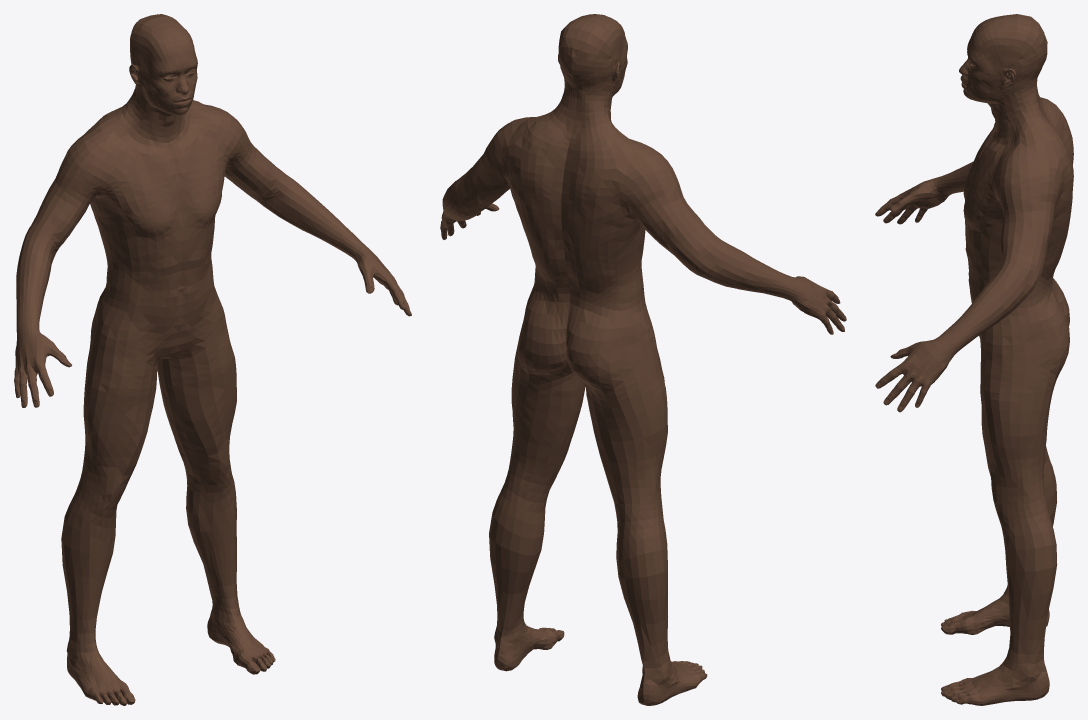
The model's file is Avatar.obj.
The picture shows the model from 3 angles, left to right: view 1: azimuth 30°, elevation 25°; view 2: azimuth 150°, elevation 25°; view 3: azimuth 270°, elevation 25°; orthographic projection. The views are drawn at different scales.
Bounding box in the file's own units: 1.2 × 1.92 × 0.5345.
